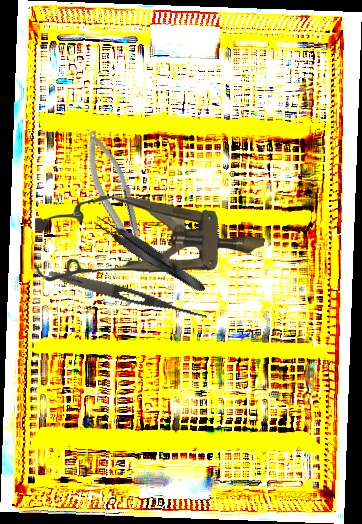Dressing Forceps: (47, 266, 211, 324)
Needle Holder: (76, 125, 159, 282)
Speculum: (33, 194, 266, 288)
Tissue Forceps: (90, 212, 210, 298)
